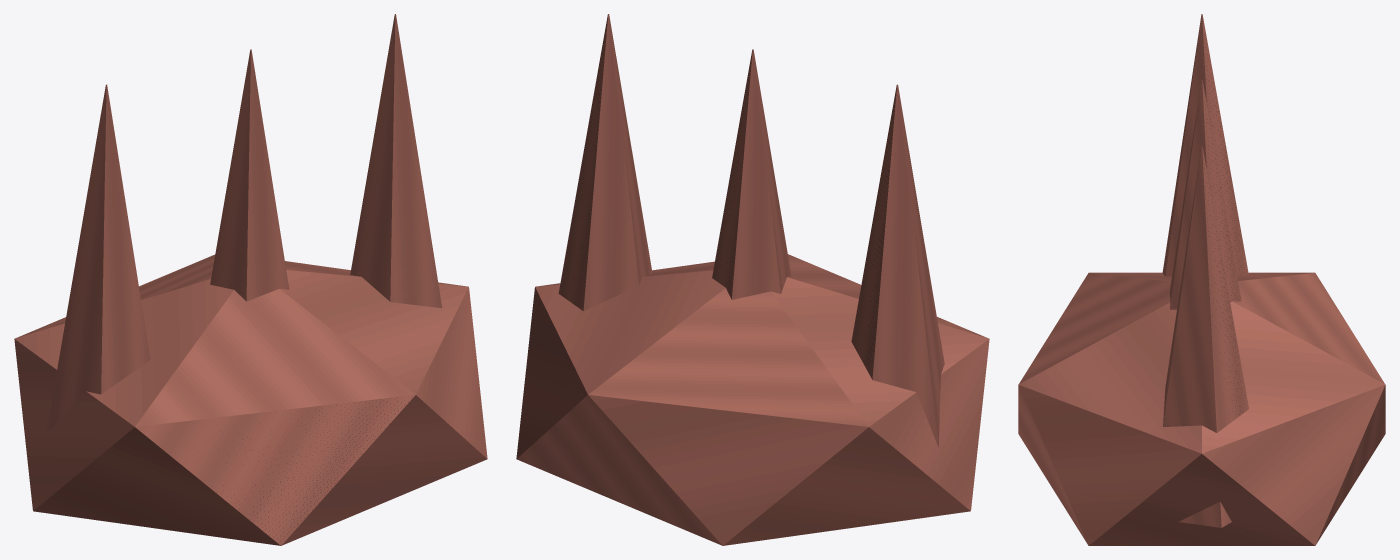
The model's file is deadly.glb.
The picture shows the model from 3 angles, left to right: view 1: azimuth 30°, elevation 25°; view 2: azimuth 150°, elevation 25°; view 3: azimuth 270°, elevation 25°; orthographic projection. The views are drawn at different scales.
Visible parts, largest first — view 1: gear_deadly; view 2: gear_deadly; view 3: gear_deadly.
Part boxes in pixels (x1,y1,x2,y2): gear_deadly: (14, 14, 487, 545); gear_deadly: (516, 14, 989, 545); gear_deadly: (1018, 14, 1385, 545).
Bounding box in the file's own units: 0.483 × 0.51 × 0.3743.
1 material, 1 textured.
